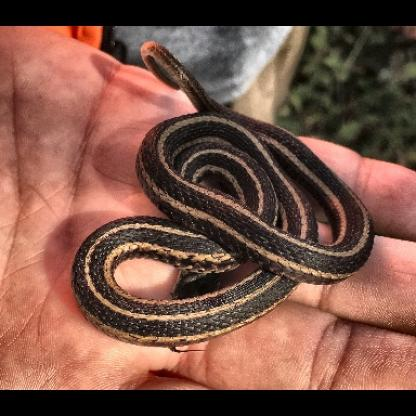Snake: (62, 81, 376, 350)
